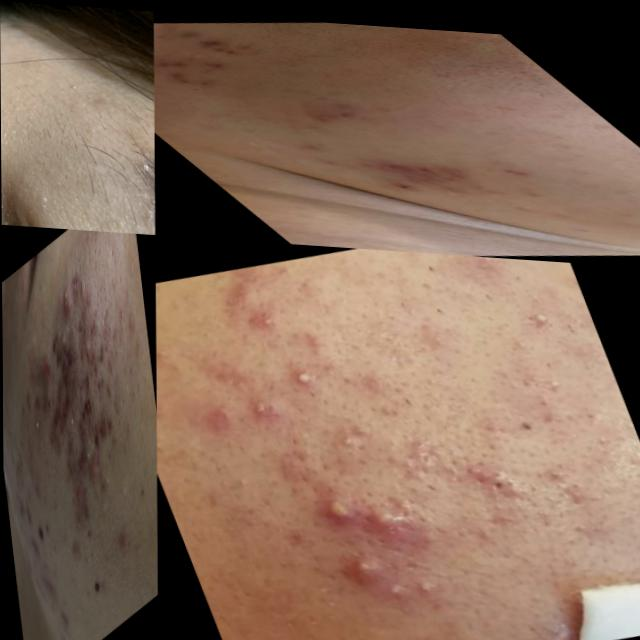9: (291, 473, 359, 523), (512, 282, 566, 332), (281, 352, 329, 391), (336, 548, 385, 580), (320, 414, 366, 448), (375, 566, 419, 600), (407, 565, 445, 597)
blackheads: (33, 304, 90, 469), (8, 150, 67, 227), (358, 148, 468, 176), (73, 404, 100, 496), (290, 97, 377, 123), (154, 63, 233, 89), (154, 51, 240, 74), (186, 31, 240, 46), (60, 281, 75, 322)
dark spot: (451, 437, 524, 499), (387, 419, 439, 478), (215, 464, 261, 504), (71, 472, 83, 510), (115, 284, 126, 323), (34, 449, 46, 482), (125, 372, 137, 403), (77, 267, 87, 298), (104, 311, 114, 337), (113, 333, 120, 362)
pustules: (356, 482, 421, 541)
